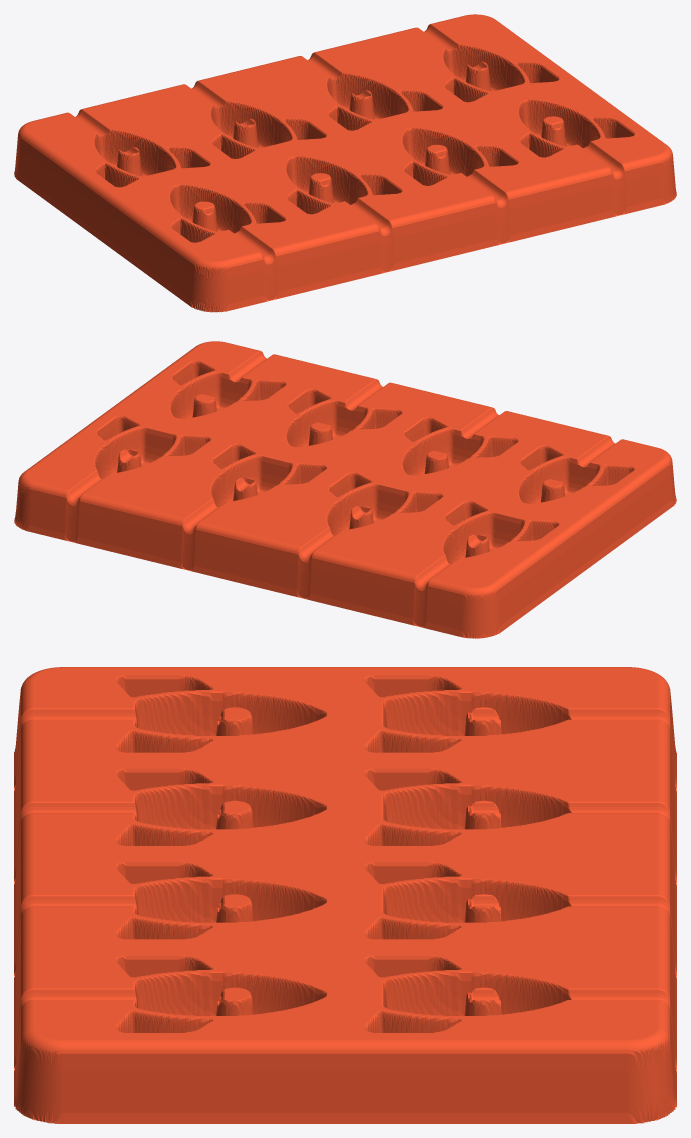
File: mold.glb
The picture shows the model from 3 angles, top to bottom: view 1: azimuth 30°, elevation 25°; view 2: azimuth 150°, elevation 25°; view 3: azimuth 270°, elevation 25°; orthographic projection. The views are drawn at different scales.
Visible parts, largest first — view 1: geometry_0; view 2: geometry_0; view 3: geometry_0.
Part boxes in pixels (x1=…): geometry_0: x1=14, y1=14, x2=676, y2=312; geometry_0: x1=14, y1=341, x2=676, y2=638; geometry_0: x1=14, y1=667, x2=676, y2=1123.
Size of the model in its own units: 0.1702 by 0.0155 by 0.1229.
